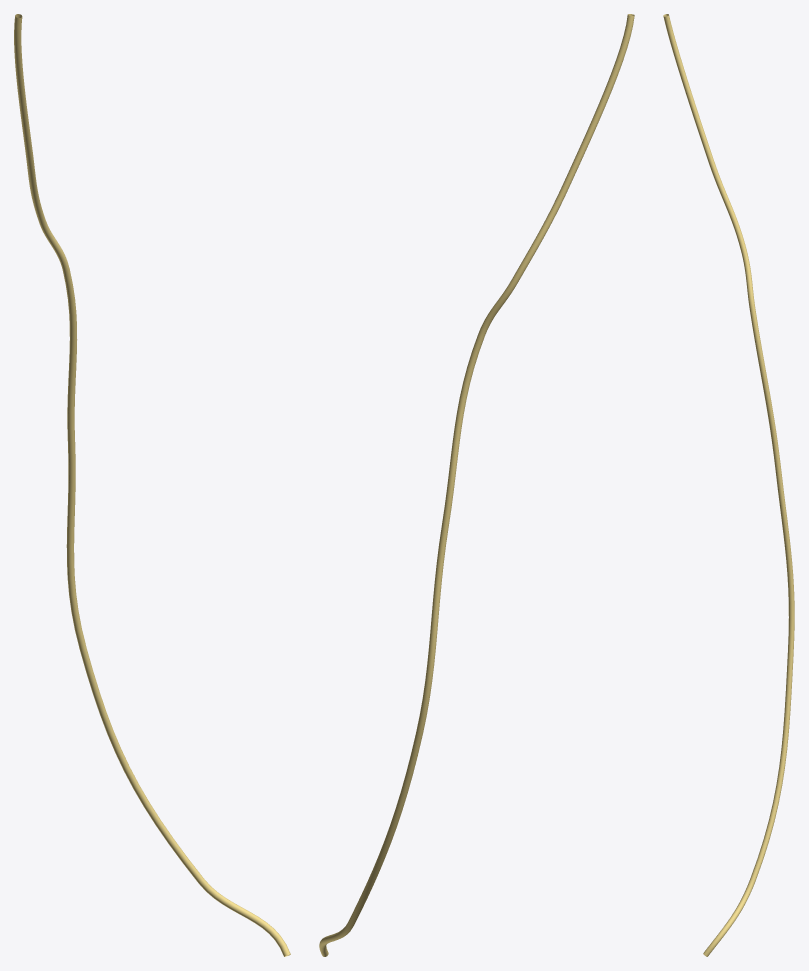
3 views of the same model, side by side, from view 1: azimuth 30°, elevation 25°; view 2: azimuth 150°, elevation 25°; view 3: azimuth 270°, elevation 25° (orthographic). The views are drawn at different scales.
Visible parts, largest first — view 1: ZA_ab0df5928f3b4ec8; view 2: ZA_ab0df5928f3b4ec8; view 3: ZA_ab0df5928f3b4ec8.
Boxes of the visible parts, x1,y1,x2,y2 form: ZA_ab0df5928f3b4ec8: (14,14,290,956); ZA_ab0df5928f3b4ec8: (319,14,634,956); ZA_ab0df5928f3b4ec8: (663,14,794,956).
Size of the model in its own units: 0.0472 by 0.1552 by 0.0223.
